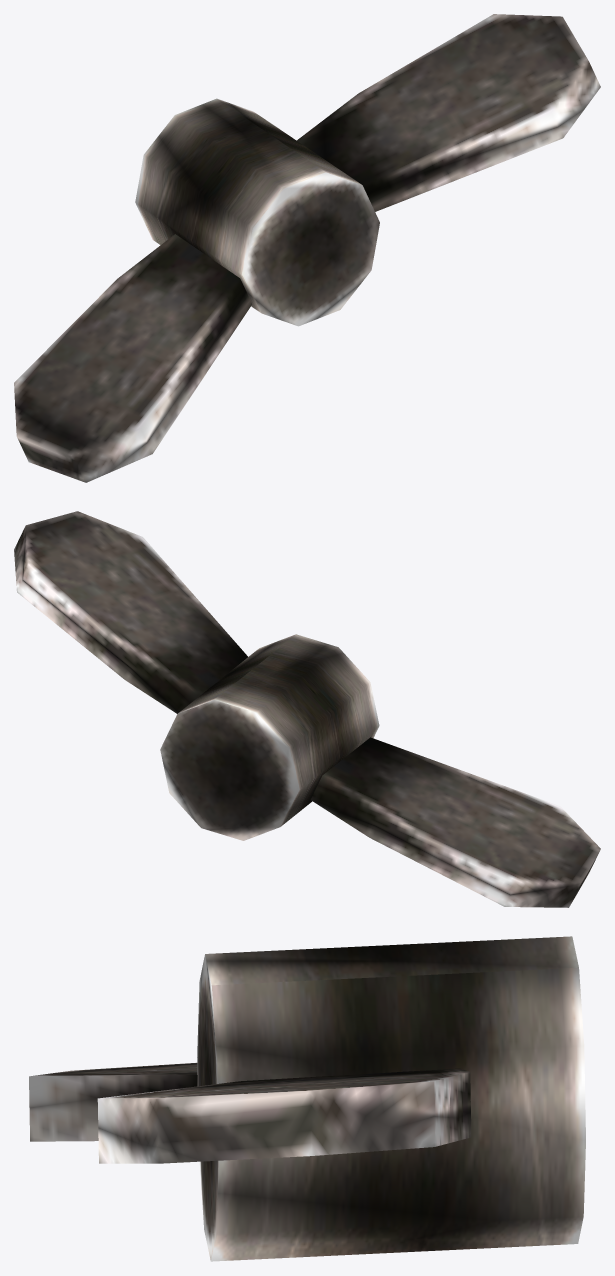
File: Robot01.RightPalm3.fbx
3 views of the same model, one above another, from view 1: azimuth 30°, elevation 25°; view 2: azimuth 150°, elevation 25°; view 3: azimuth 270°, elevation 25° (orthographic). The views are drawn at different scales.
Parts seen in each view (by area): view 1: mesh_1081.001; view 2: mesh_1081.001; view 3: mesh_1081.001.
Boxes of the visible parts, x1,y1,x2,y2 form: mesh_1081.001: (14,14,600,482); mesh_1081.001: (14,511,600,907); mesh_1081.001: (29,936,585,1261).
Size of the model in its own units: 29.23 by 13.97 by 12.97.
